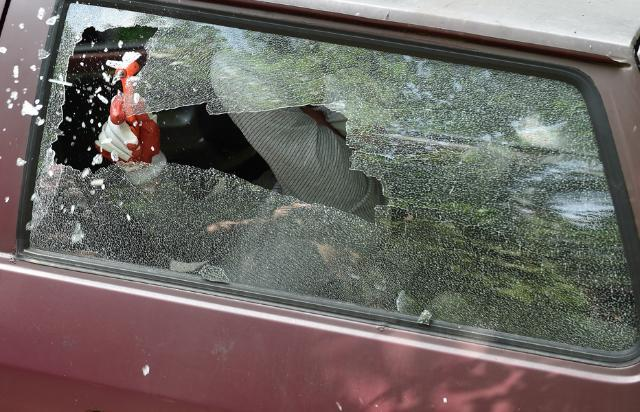Door: (22, 0, 638, 362)
